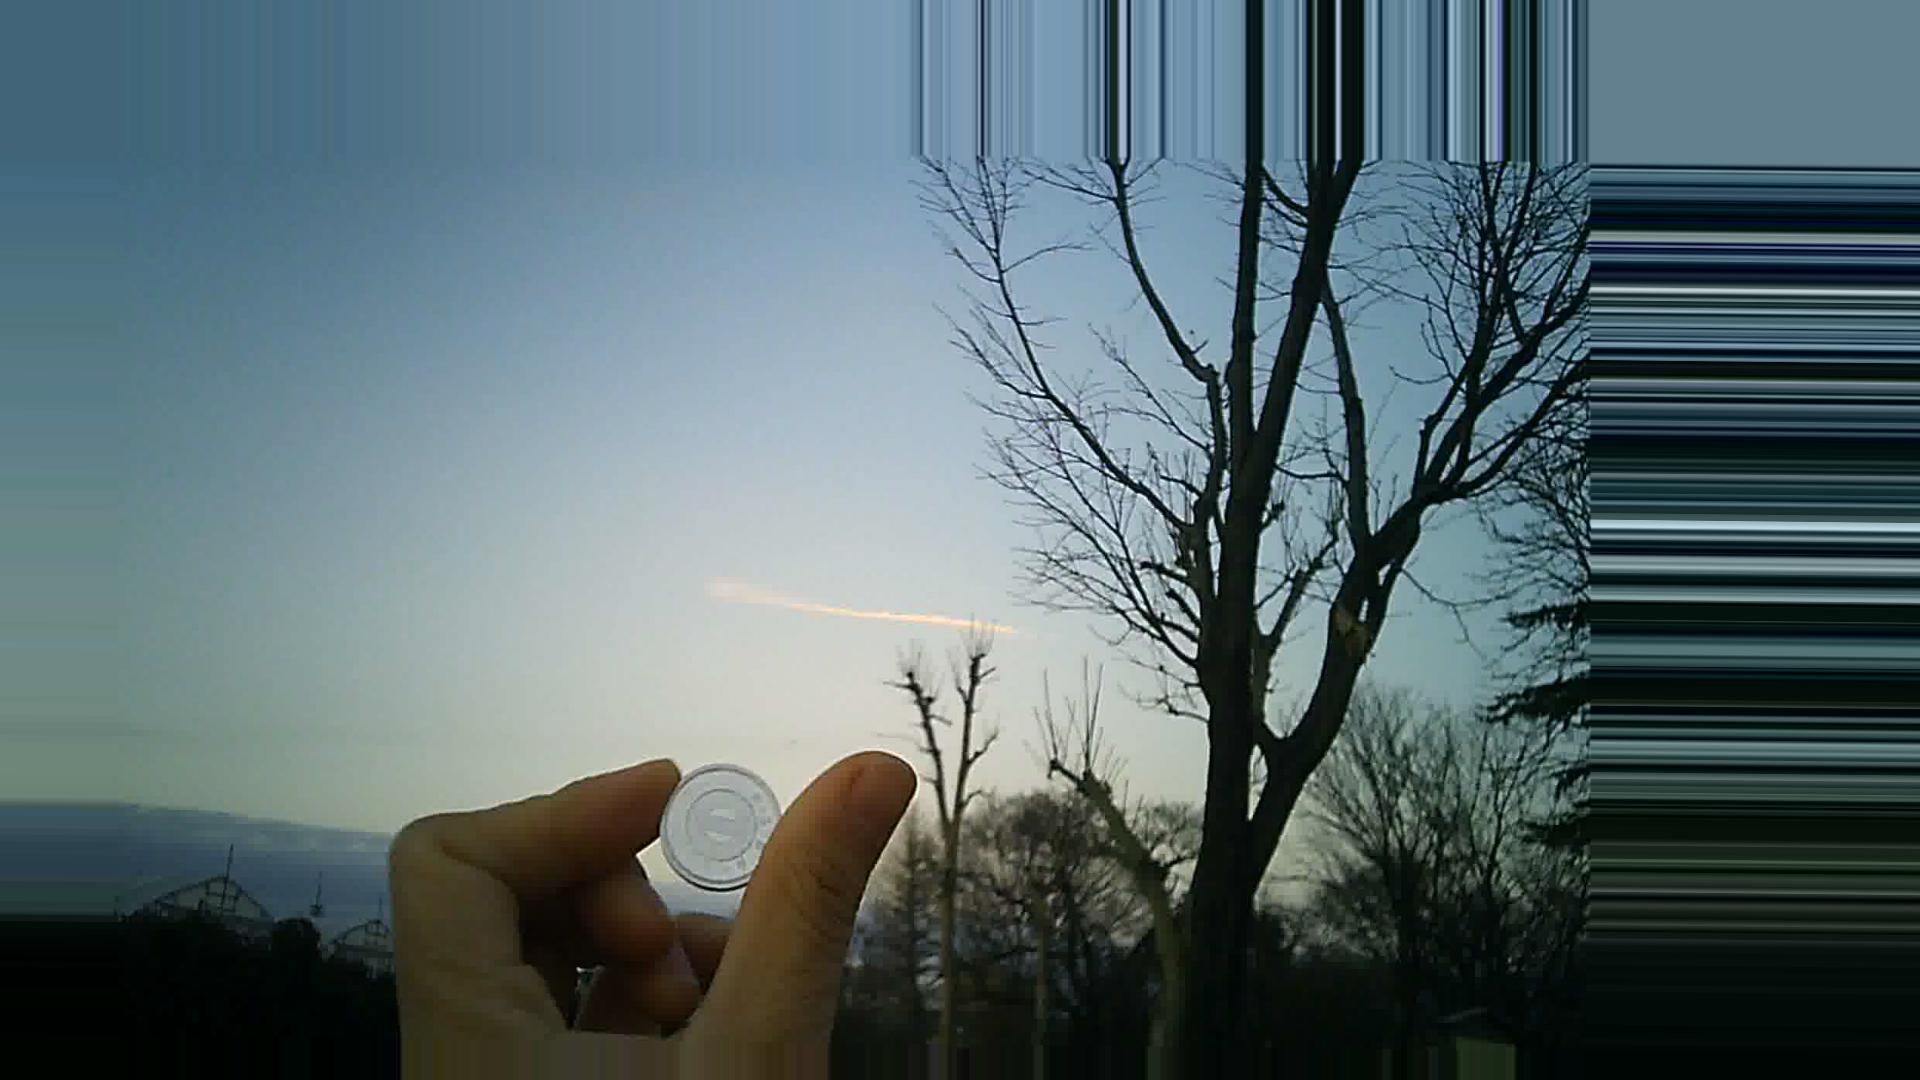1 Yen: (645, 748, 793, 884)
